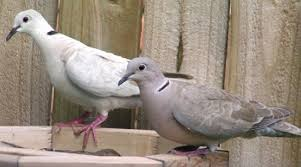pigeon: (117, 56, 300, 157)
